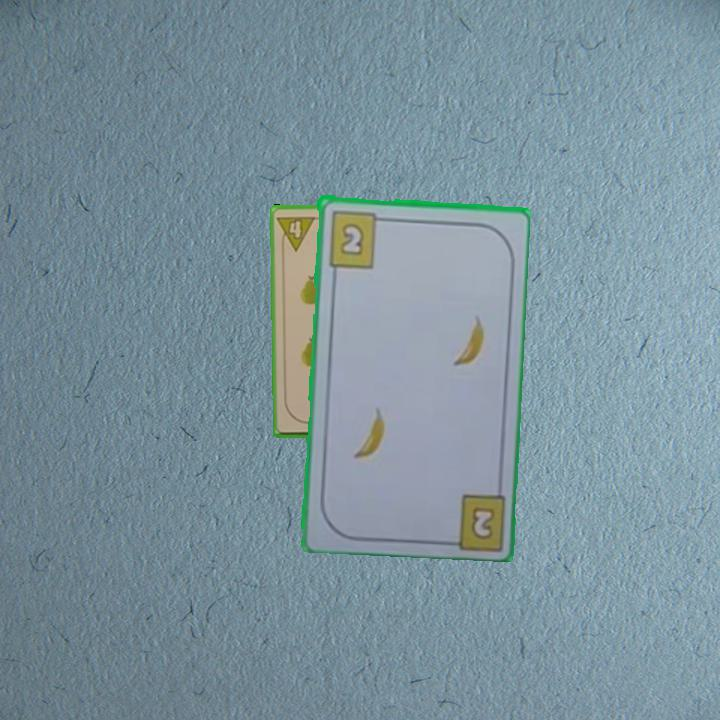2b: (324, 207, 389, 270), (467, 502, 497, 543)
4p: (274, 212, 318, 253)
